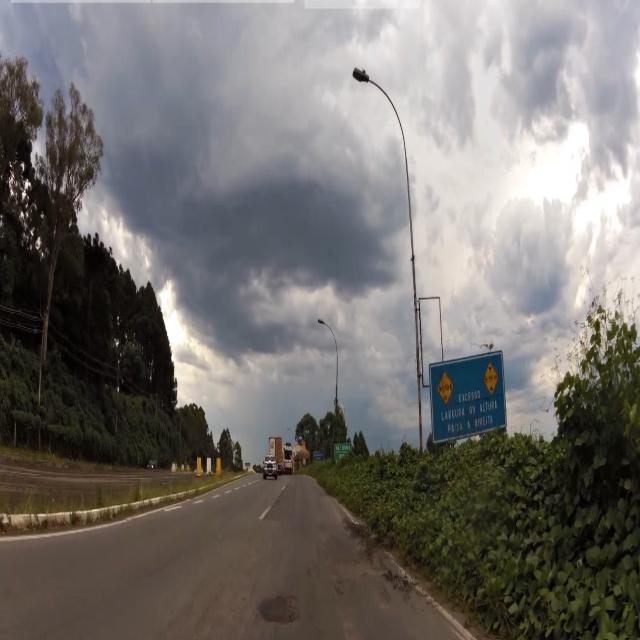ESP-20: (430, 364, 506, 432)
